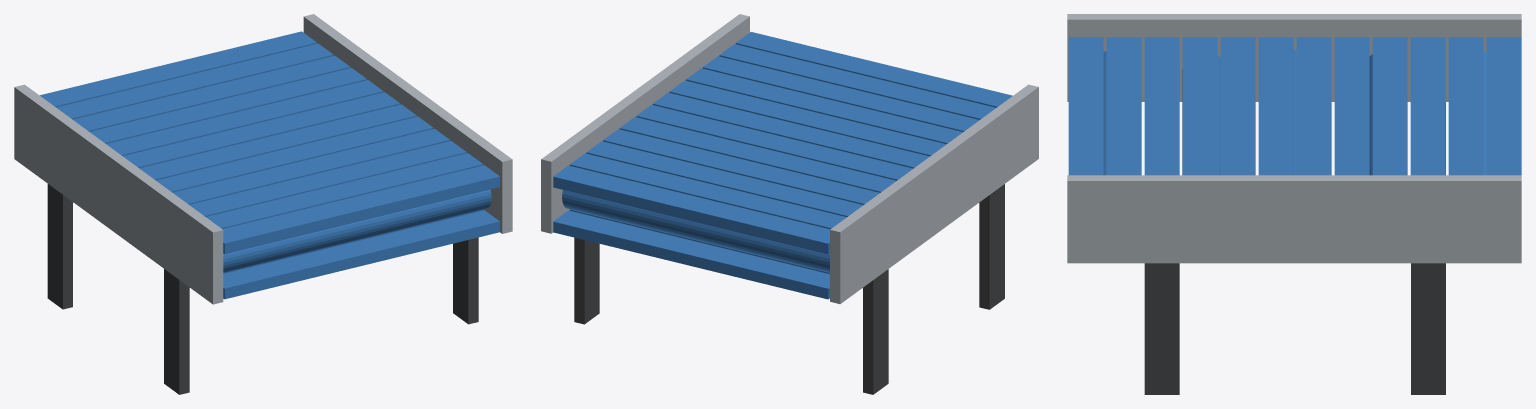
Rendered from Belt.obj.
3 views of the same model, side by side, from view 1: azimuth 30°, elevation 25°; view 2: azimuth 150°, elevation 25°; view 3: azimuth 270°, elevation 25° (orthographic). The views are drawn at different scales.
Visible parts, largest first — view 1: Gerade; view 2: Gerade; view 3: Gerade.
Part boxes in pixels (box(x1,y1,x2,y2)): Gerade: box(14, 14, 512, 394); Gerade: box(541, 14, 1038, 394); Gerade: box(1067, 14, 1521, 394).
Bounding box in the file's own units: 1.74 × 1.04 × 2.
Materials: 1 (1 with a texture image).
